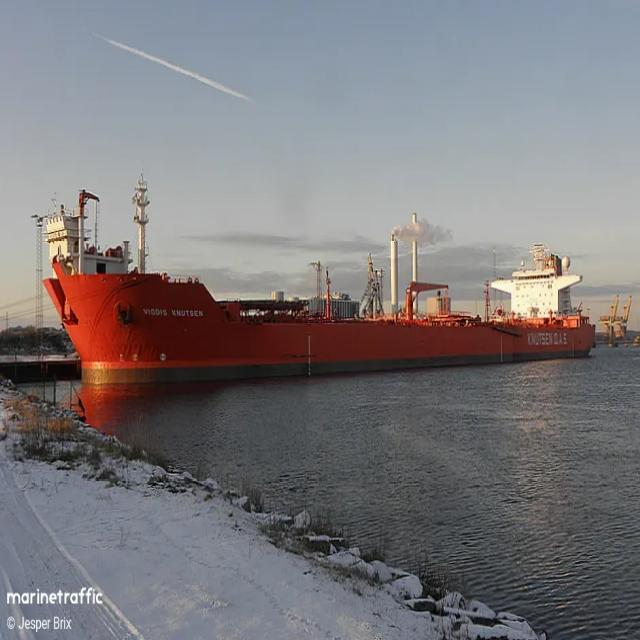Tanker: (33, 175, 594, 382)
